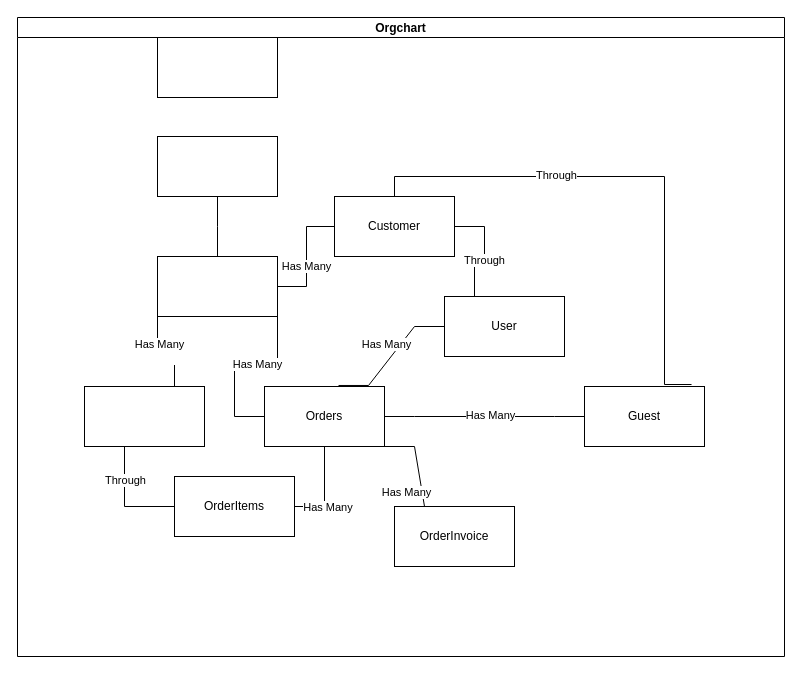
This 802x674 diagram has some shape labels left out. The centre of each missing label's shape, as x and y in pixels:
"Products" goes at (x=144, y=416).
"Store" goes at (x=217, y=286).
"StoreAdmin" goes at (x=217, y=166).
"SuperAdmin" goes at (x=217, y=67).
